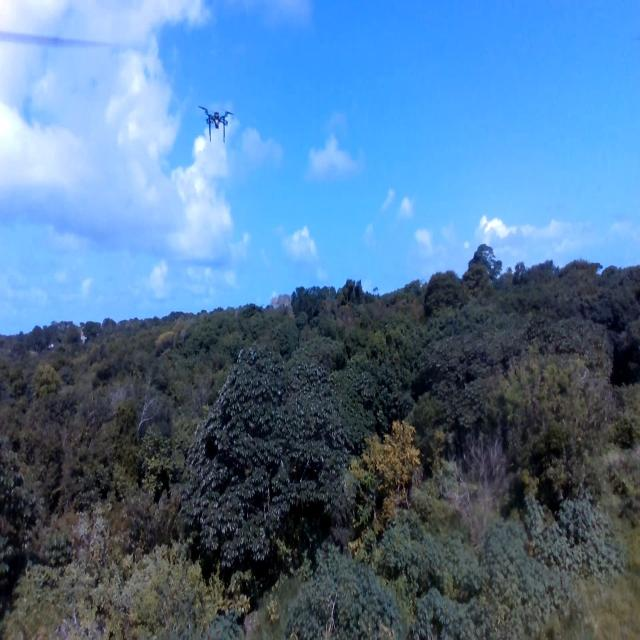-uav-: (193, 95, 239, 153)
